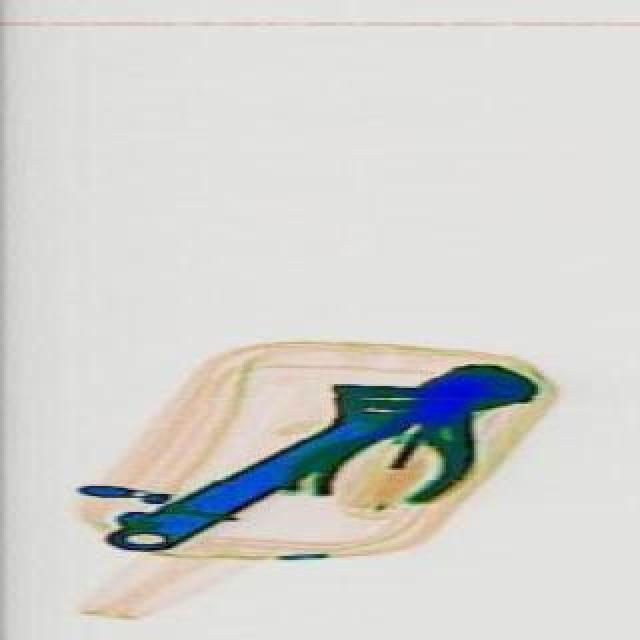scissors: (80, 306, 532, 582)
